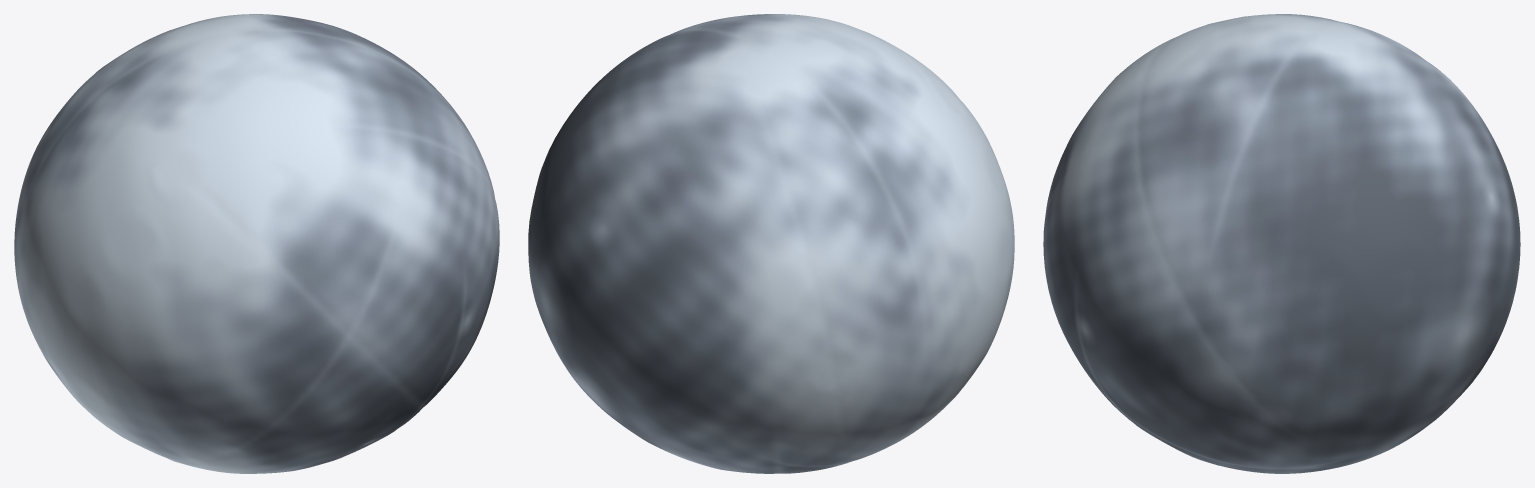
The model's file is orcus.glb.
The picture shows the model from 3 angles, left to right: view 1: azimuth 30°, elevation 25°; view 2: azimuth 150°, elevation 25°; view 3: azimuth 270°, elevation 25°; orthographic projection.
Parts seen in each view (by area): view 1: orcus_body; view 2: orcus_body; view 3: orcus_body.
Boxes of the visible parts, box(x1,y1,x2,y2) form: orcus_body: box(14, 14, 499, 473); orcus_body: box(528, 14, 1014, 473); orcus_body: box(1043, 14, 1520, 473).
Bounding box in the file's own units: 2.04 × 1.9 × 2.
Materials: 1 (1 with a texture image).
